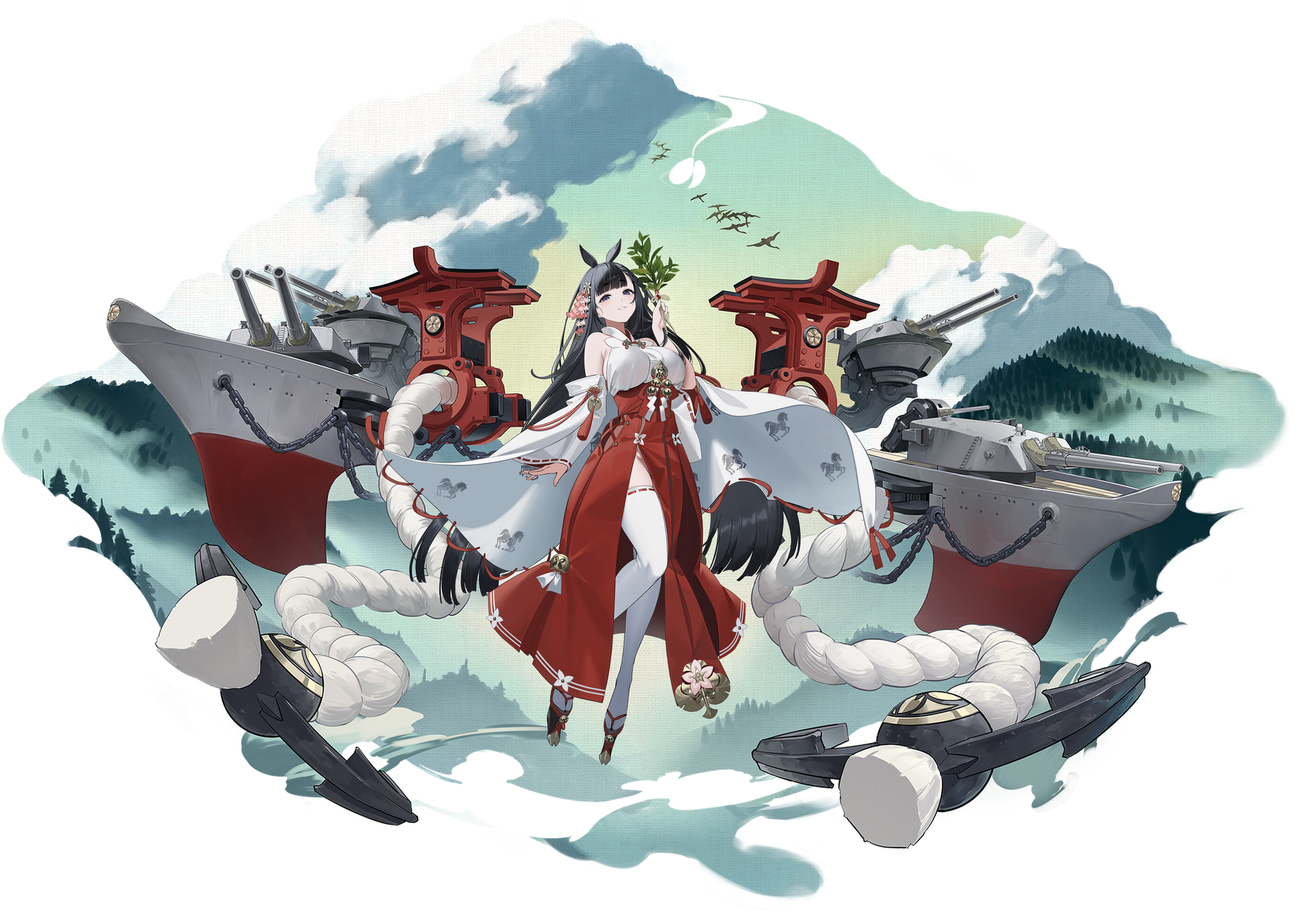person: (502, 213, 740, 781)
